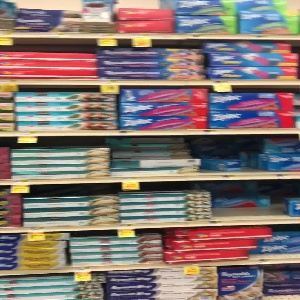void: (213, 178, 284, 221), (202, 134, 262, 172)
